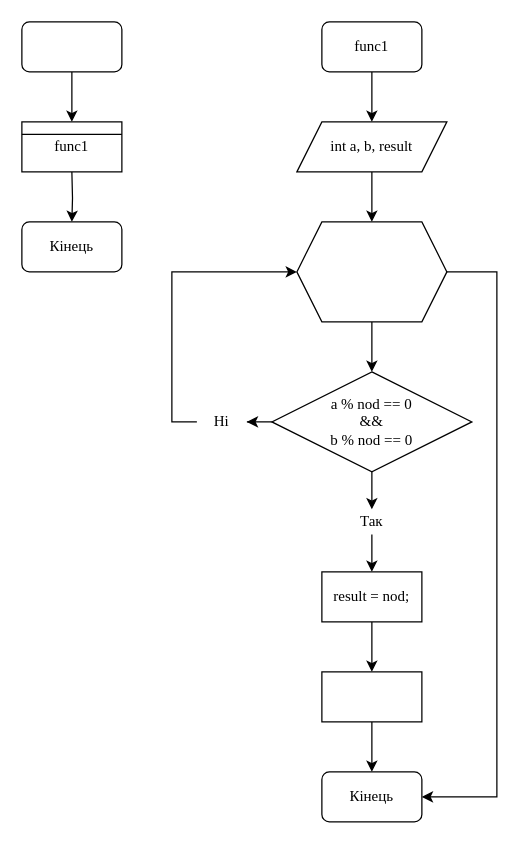
Some shapes in this 529 by 844 pixel diagram are drawn without their labels. Each missing label, with the box of its shape:
break;: (321, 671, 422, 722)
Початок: (21, 21, 122, 72)
Цикл for nod = a nod > 0 nod--: (296, 221, 447, 322)
